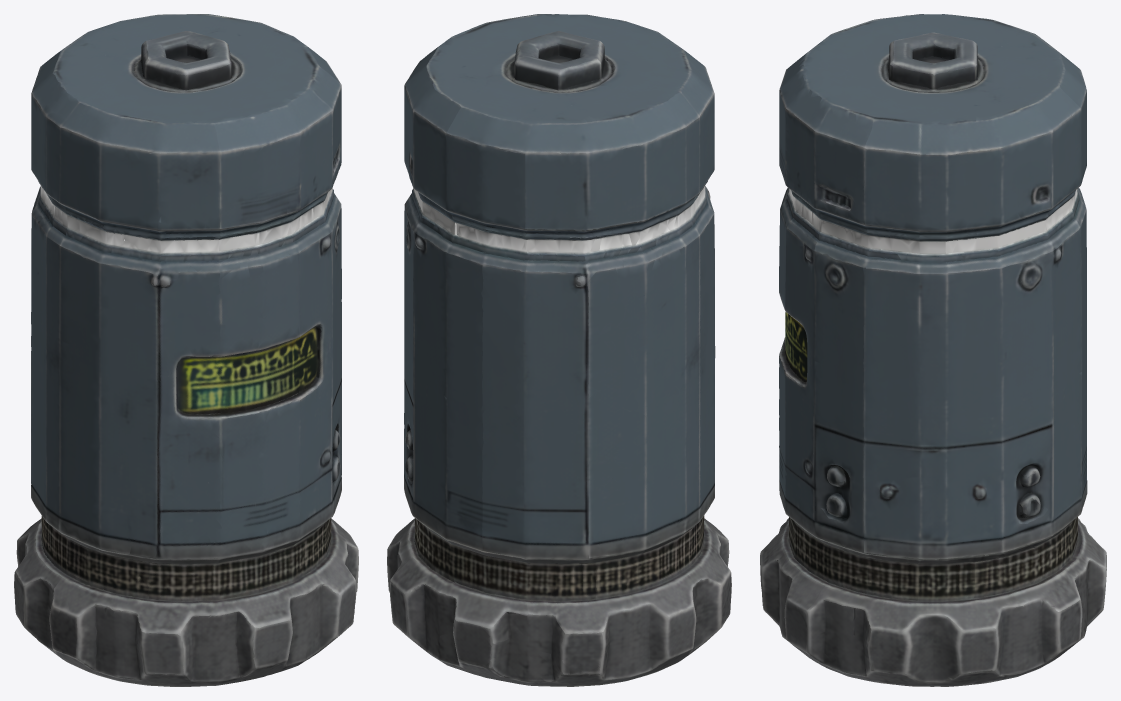
The model's file is barrel.glb.
3 renders of one model, left to right at view 1: azimuth 30°, elevation 25°; view 2: azimuth 150°, elevation 25°; view 3: azimuth 270°, elevation 25°, orthographic.
Parts seen in each view (by area): view 1: world; view 2: world; view 3: world.
Boxes of the visible parts, <box> form: world: <box>14,14,358,686</box>; world: <box>387,14,731,686</box>; world: <box>760,14,1106,686</box>.
Bounding box in the file's own units: 0.2991 × 0.55 × 0.3011.
Materials: 1 (1 with a texture image).
